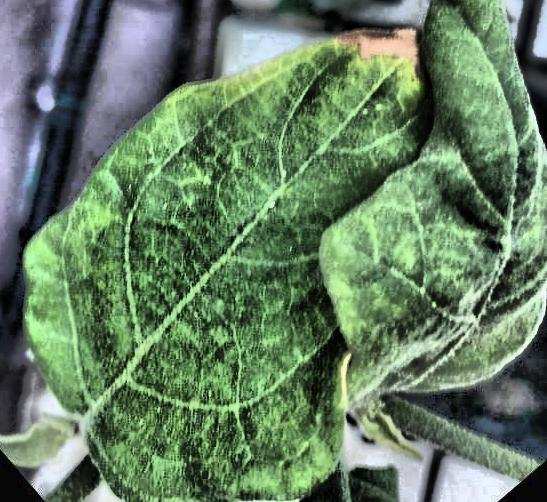HEALTHY: (1, 0, 547, 502)
